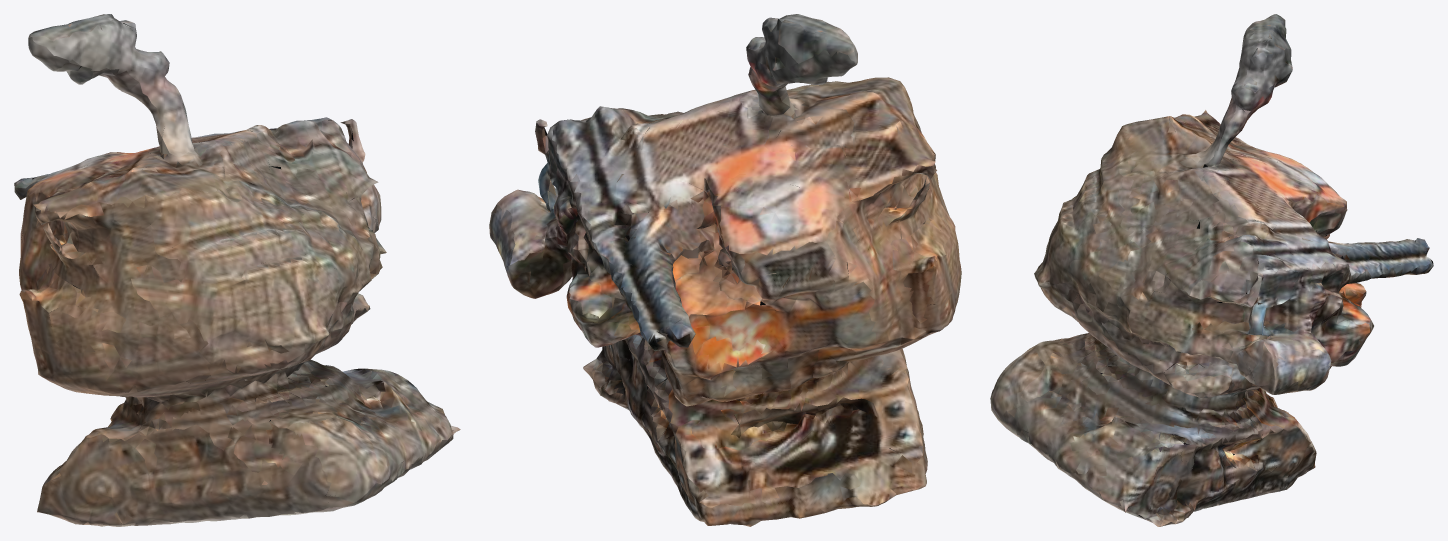
The model's file is vorash_turret.glb.
The picture shows the model from 3 angles, left to right: view 1: azimuth 30°, elevation 25°; view 2: azimuth 150°, elevation 25°; view 3: azimuth 270°, elevation 25°; orthographic projection. The views are drawn at different scales.
Parts seen in each view (by area): view 1: geometry_0; view 2: geometry_0; view 3: geometry_0.
Boxes of the visible parts, box(x1,y1,x2,y2) form: geometry_0: box(14, 14, 460, 526); geometry_0: box(489, 14, 961, 526); geometry_0: box(990, 14, 1433, 526).
Bounding box in the file's own units: 0.7432 × 0.8815 × 0.8422.
Materials: 1 (1 with a texture image).
